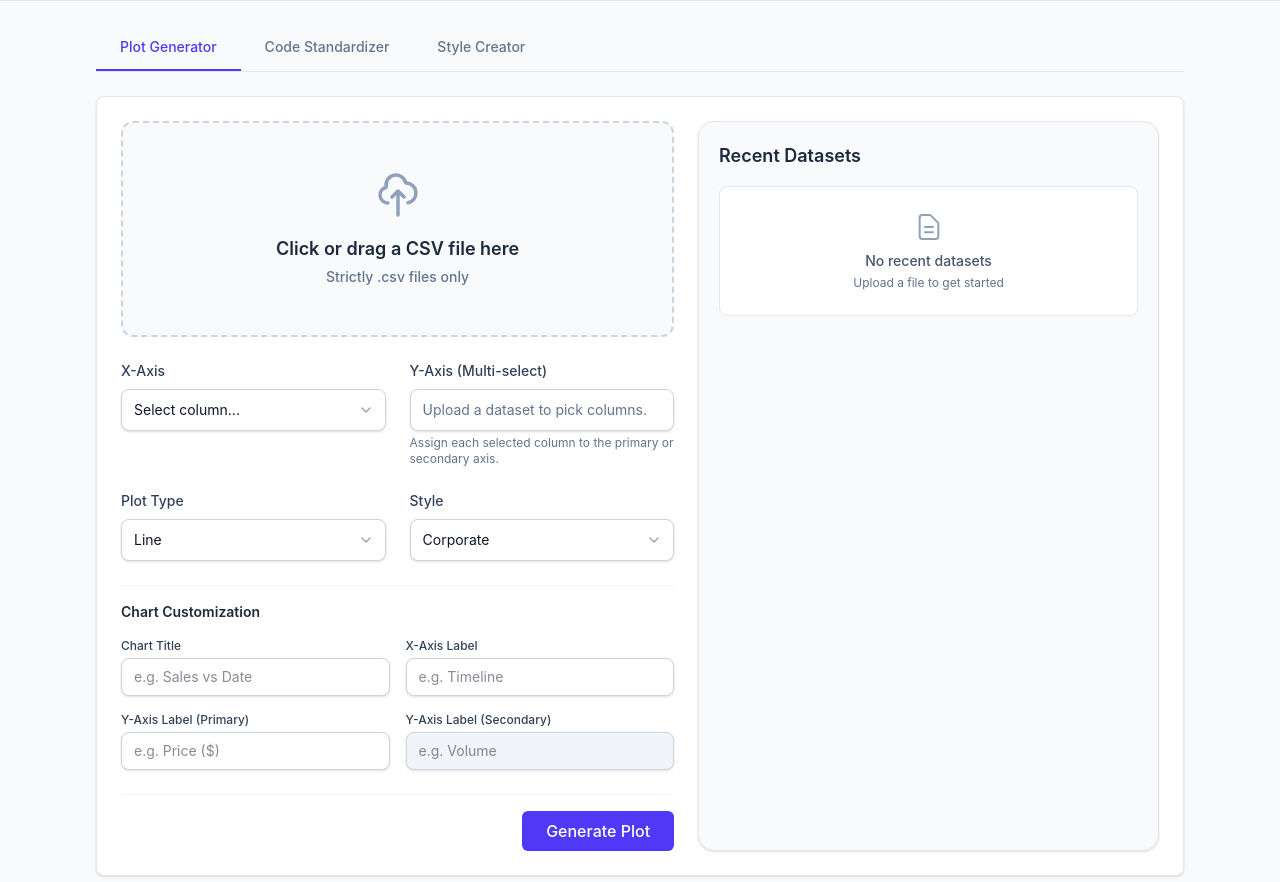
Scenario: VisualStandardizerView › requires all plot fields before generating
(page scrolled)
Click the button "Generate Plot" at (598, 831), box [522,811,674,851]
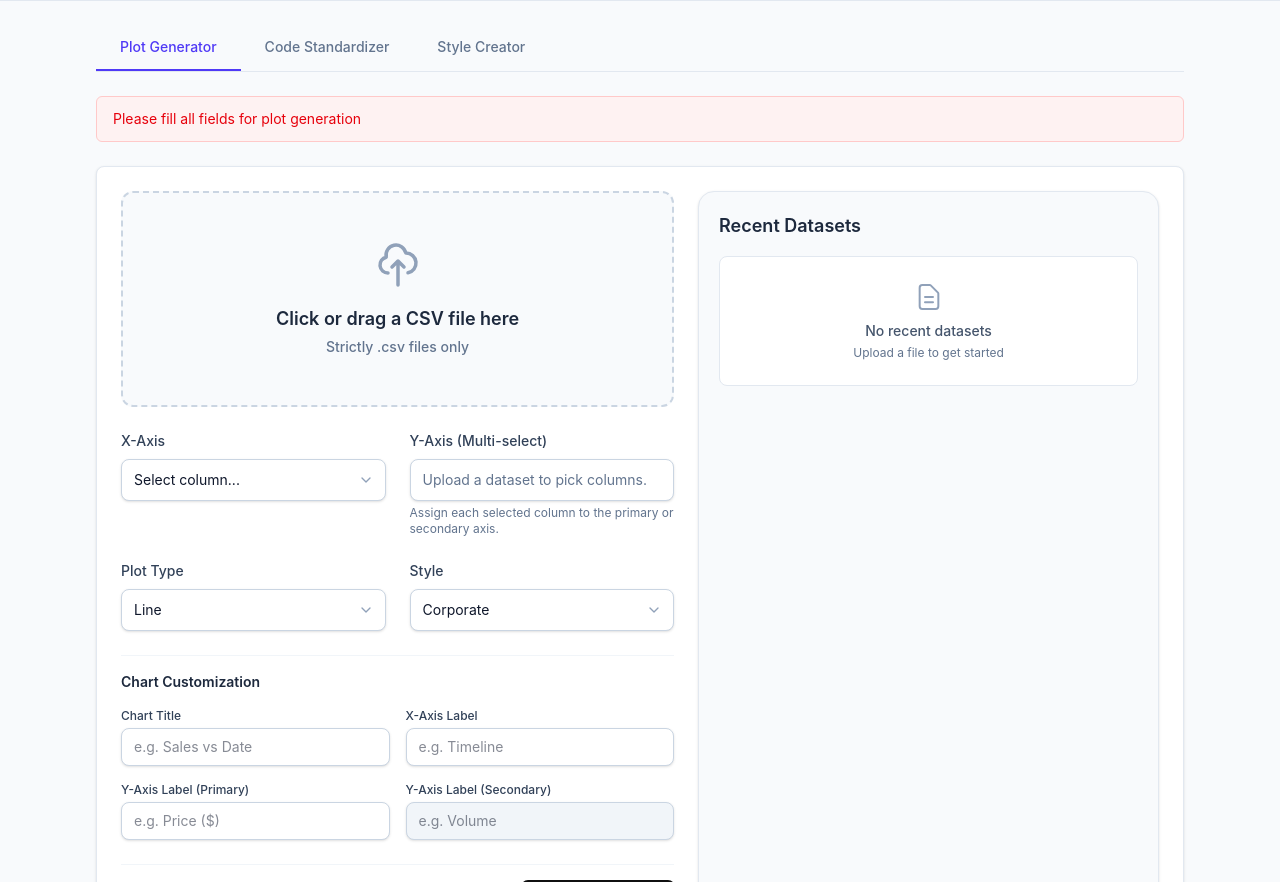
Expected: the text "Please fill all fields for plot generation" is shown, [113,110,361,127]
